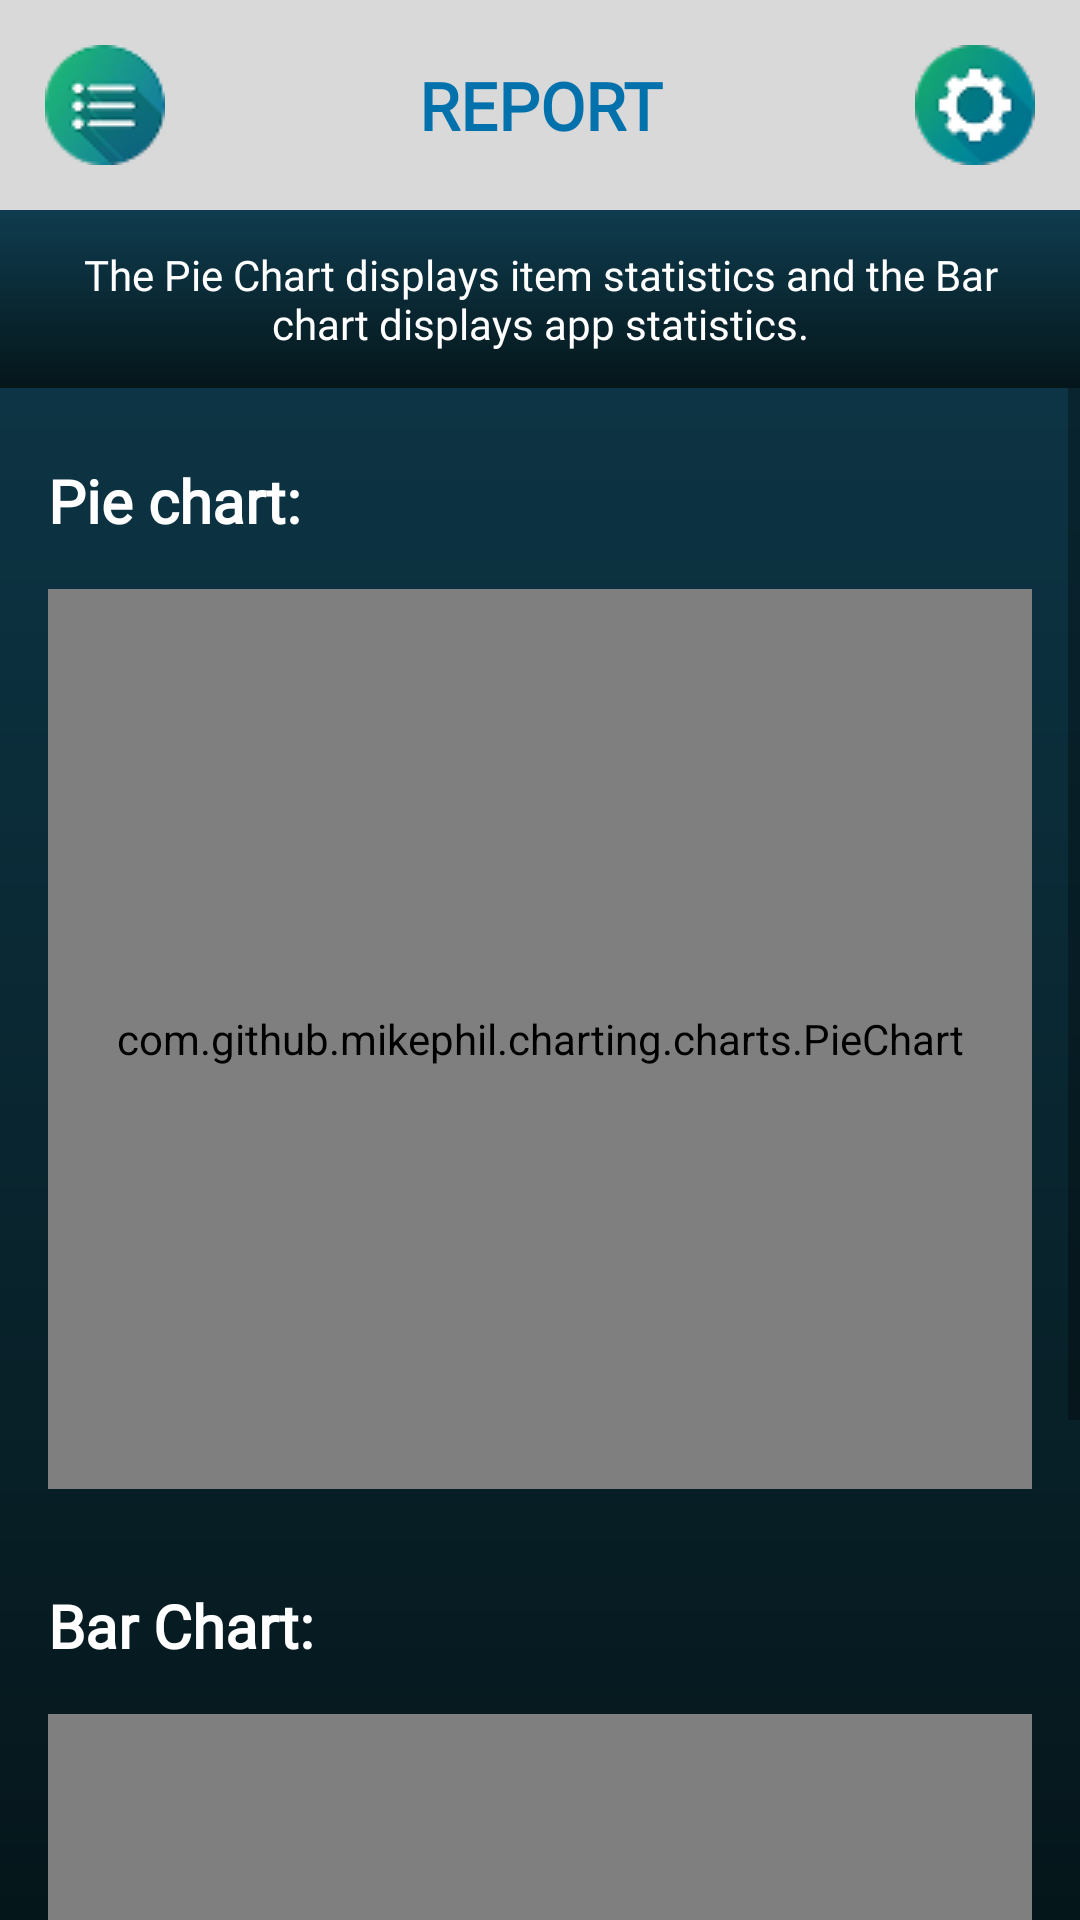

Icons on this 1080*1920 Android screen, each with the point to tap as (x,y):
Menu Options: (105,105)
settings: (975,105)
